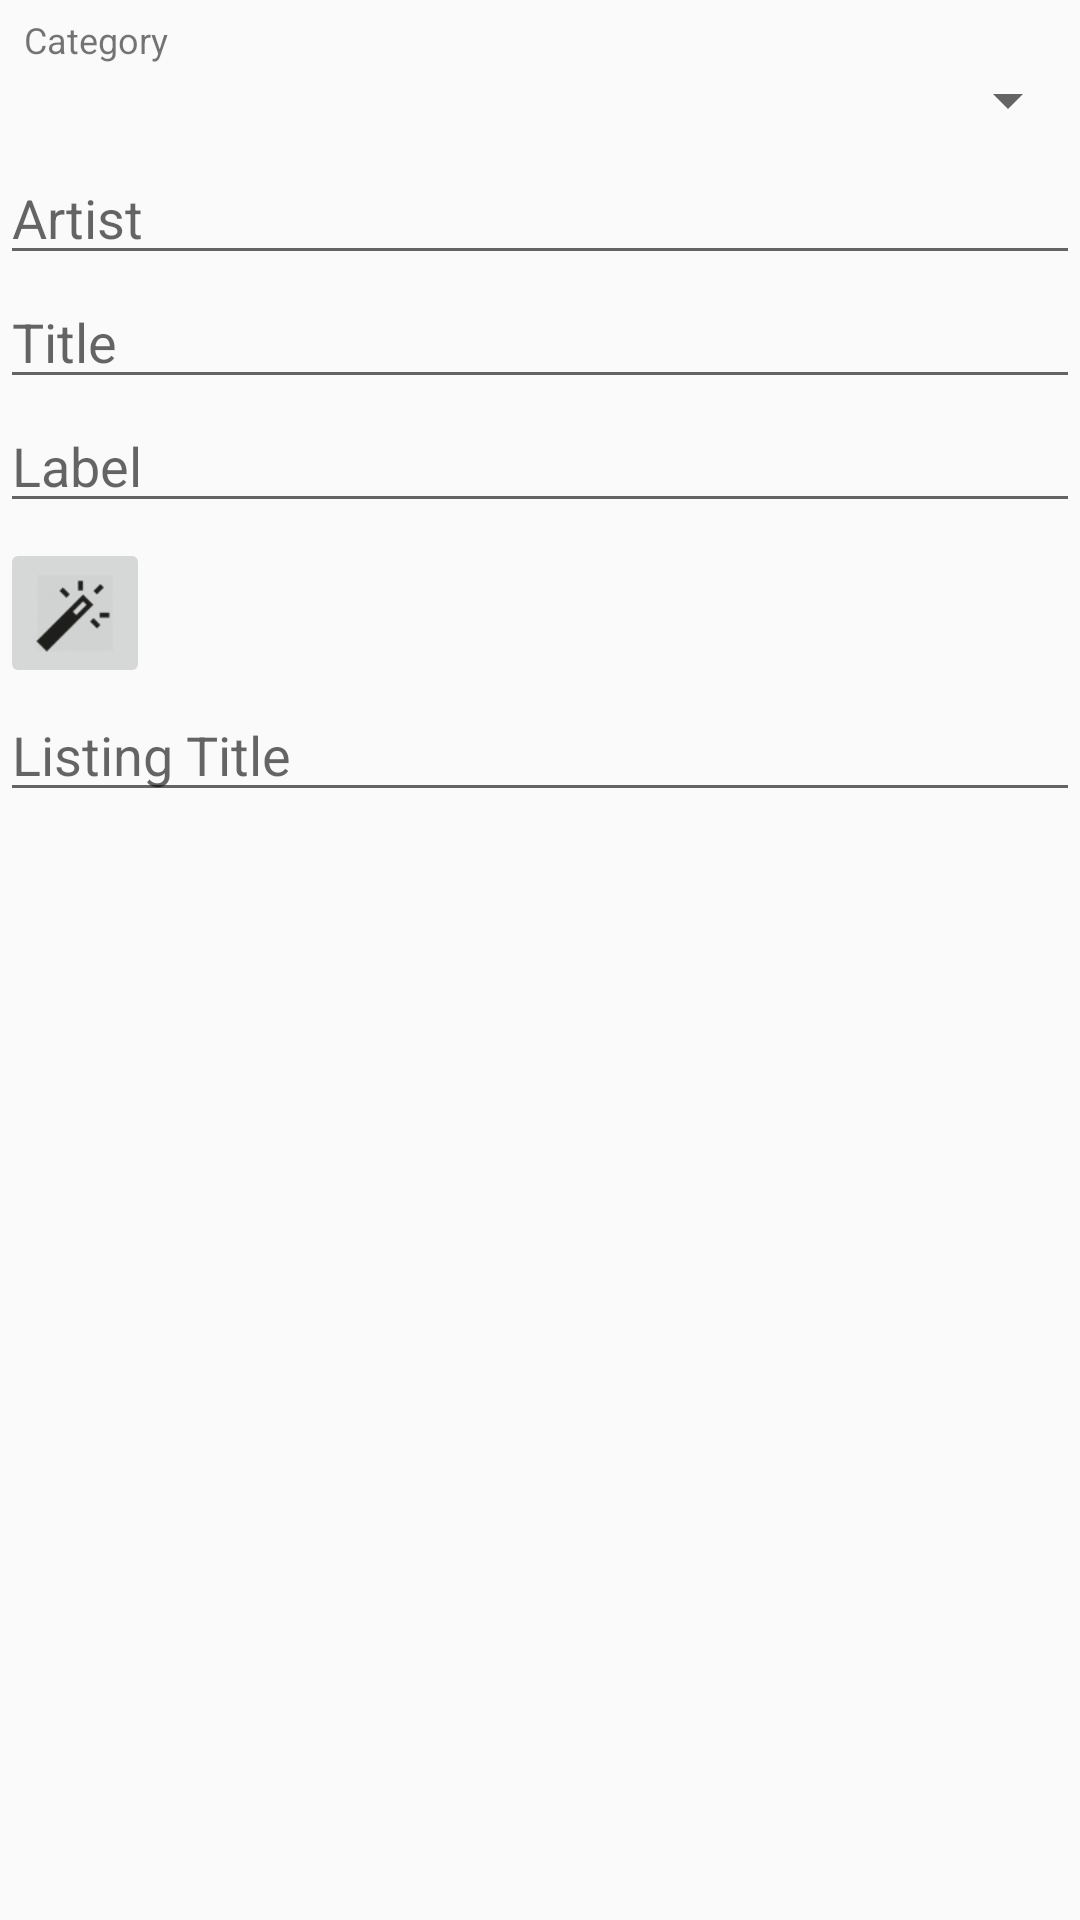

Where icons sit on this 1080 x 1920 app screen, as (x1, y1, x2, y2):
magic wand: (12, 556, 138, 670)
